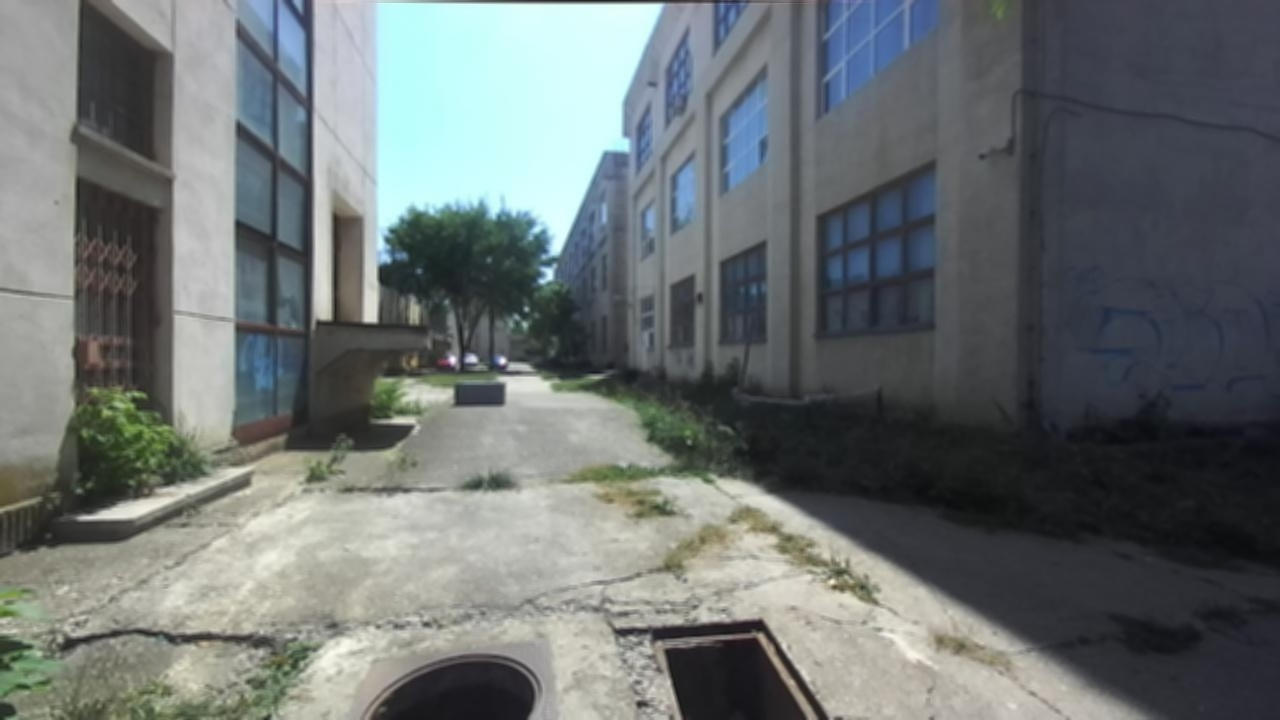drain: (650, 613, 834, 718), (357, 648, 549, 720)
